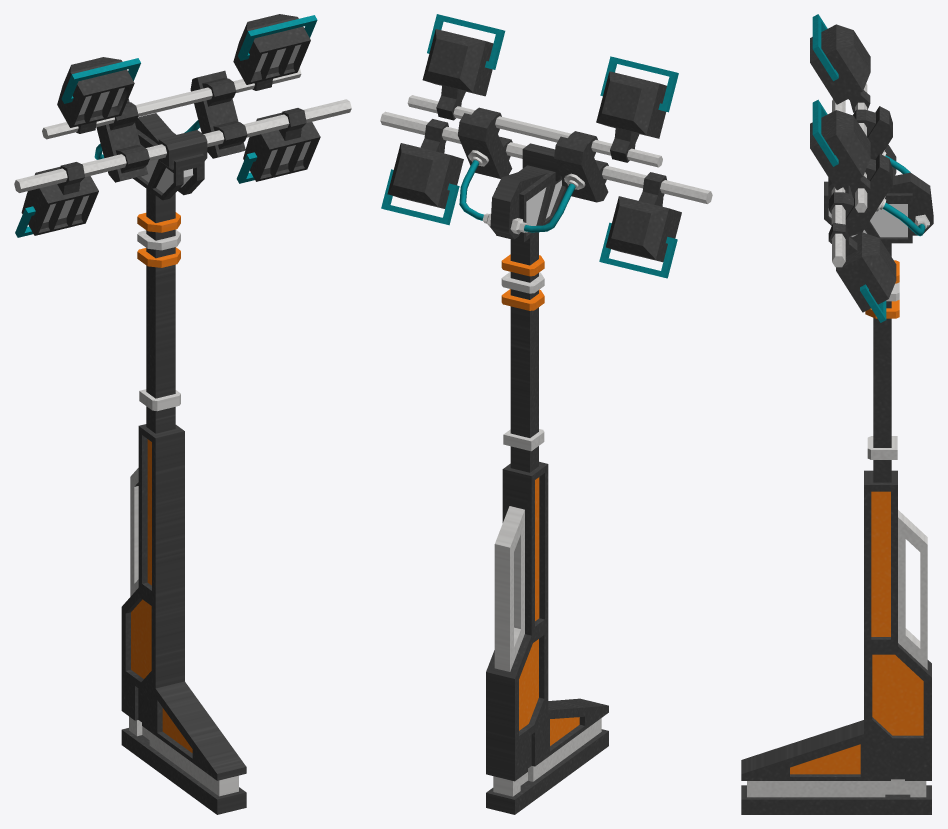
File: Lamp_1_LOD0.fbx
The picture shows the model from 3 angles, left to right: view 1: azimuth 30°, elevation 25°; view 2: azimuth 150°, elevation 25°; view 3: azimuth 270°, elevation 25°; orthographic projection.
Visible parts, largest first — view 1: Lamp_1_LOD0; view 2: Lamp_1_LOD0; view 3: Lamp_1_LOD0.
Boxes of the visible parts, <box> form: Lamp_1_LOD0: <box>14,14,351,814</box>; Lamp_1_LOD0: <box>380,14,712,814</box>; Lamp_1_LOD0: <box>741,14,933,814</box>.
Bounding box in the file's own units: 167 × 355 × 84.15.
